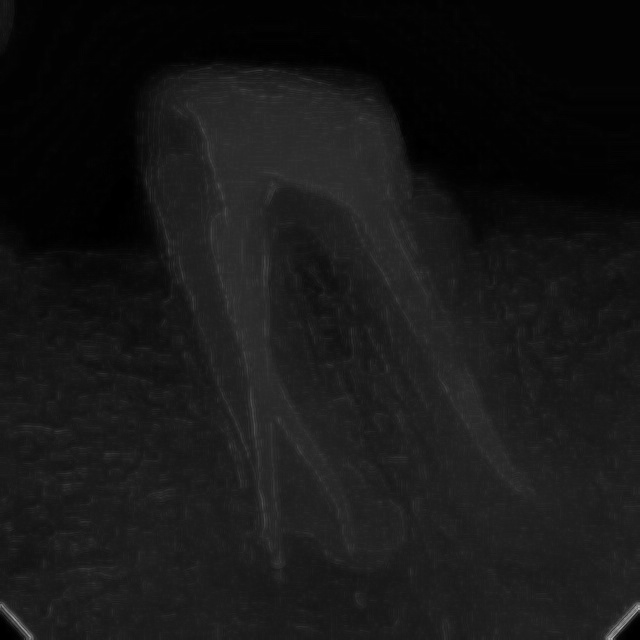Class 0- No endodontic treatment: (105, 136, 612, 594)
